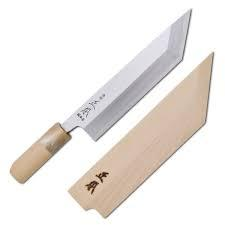Knife: (9, 7, 193, 184), (67, 50, 214, 218)
